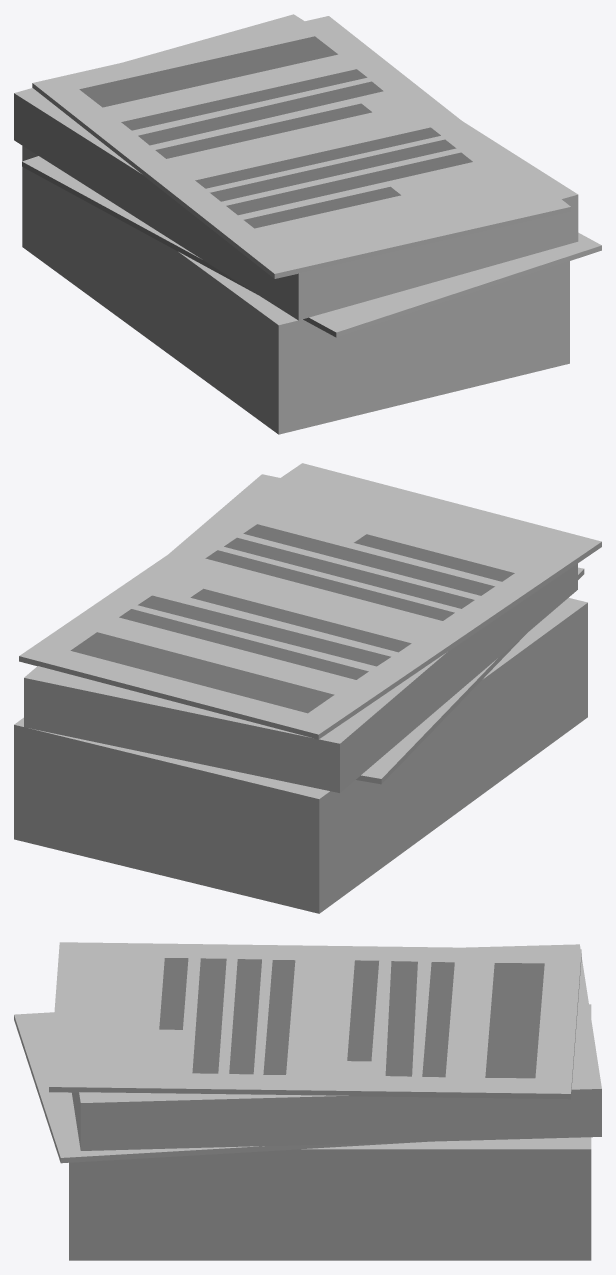
Rendered from SO_Papers_03.fbx.
The picture shows the model from 3 angles, top to bottom: view 1: azimuth 30°, elevation 25°; view 2: azimuth 150°, elevation 25°; view 3: azimuth 270°, elevation 25°; orthographic projection. The views are drawn at different scales.
Parts seen in each view (by area): view 1: SO_Papers_03; view 2: SO_Papers_03; view 3: SO_Papers_03.
Part boxes in pixels (left/top/right/bottom): SO_Papers_03: left=14, top=14, right=601, bottom=434; SO_Papers_03: left=14, top=463, right=601, bottom=913; SO_Papers_03: left=14, top=942, right=601, bottom=1260.
Size of the model in its own units: 0.5715 by 0.26 by 0.8182.
